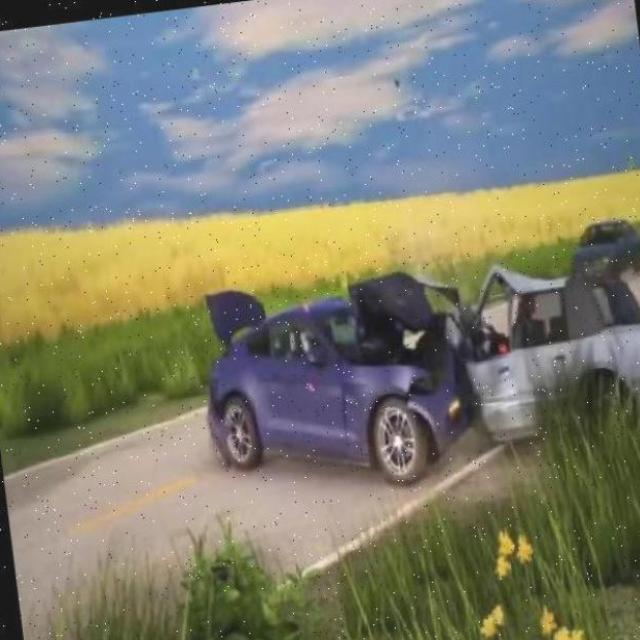accident: (188, 250, 640, 528)
